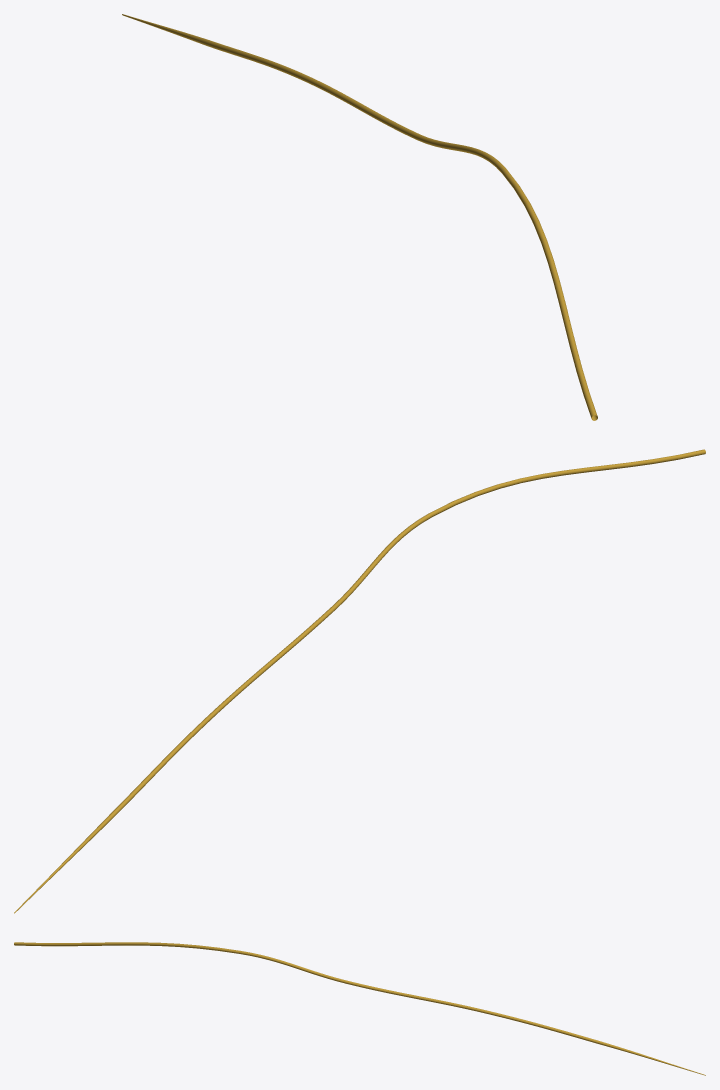
3 renders of one model, top to bottom at view 1: azimuth 30°, elevation 25°; view 2: azimuth 150°, elevation 25°; view 3: azimuth 270°, elevation 25°, orthographic. The views are drawn at different scales.
Visible parts, largest first — view 1: 左侧骨间前神经; view 2: 左侧骨间前神经; view 3: 左侧骨间前神经.
Boxes of the visible parts, left/top/right/bottom form: 左侧骨间前神经: left=122, top=14, right=597, bottom=420; 左侧骨间前神经: left=14, top=449, right=705, bottom=913; 左侧骨间前神经: left=14, top=942, right=705, bottom=1075.
Size of the model in its own units: 0.0573 by 0.0518 by 0.3089.
